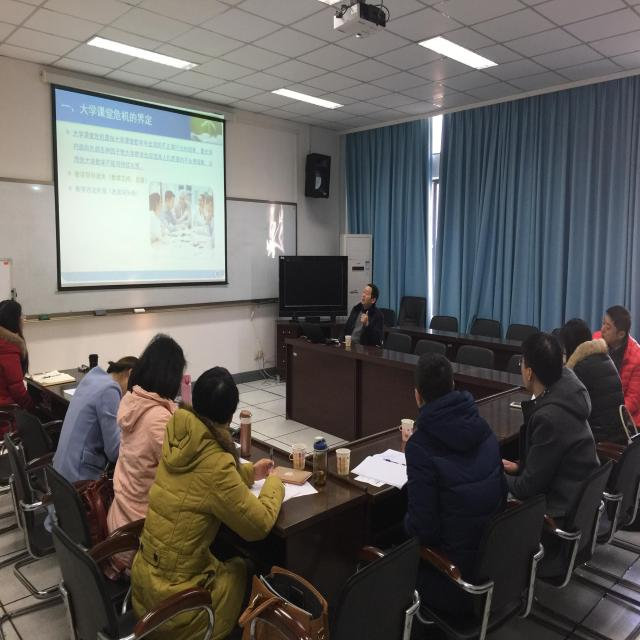head: (188, 359, 244, 433), (130, 327, 187, 399), (412, 342, 461, 412), (515, 329, 561, 393), (108, 351, 145, 399), (557, 316, 591, 364), (599, 303, 631, 350), (357, 278, 380, 313)
